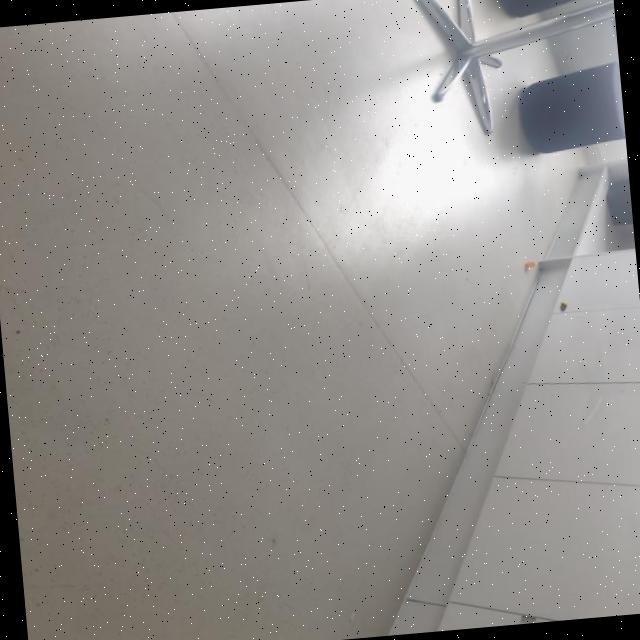ping-pong-ball: (524, 259, 536, 268)
